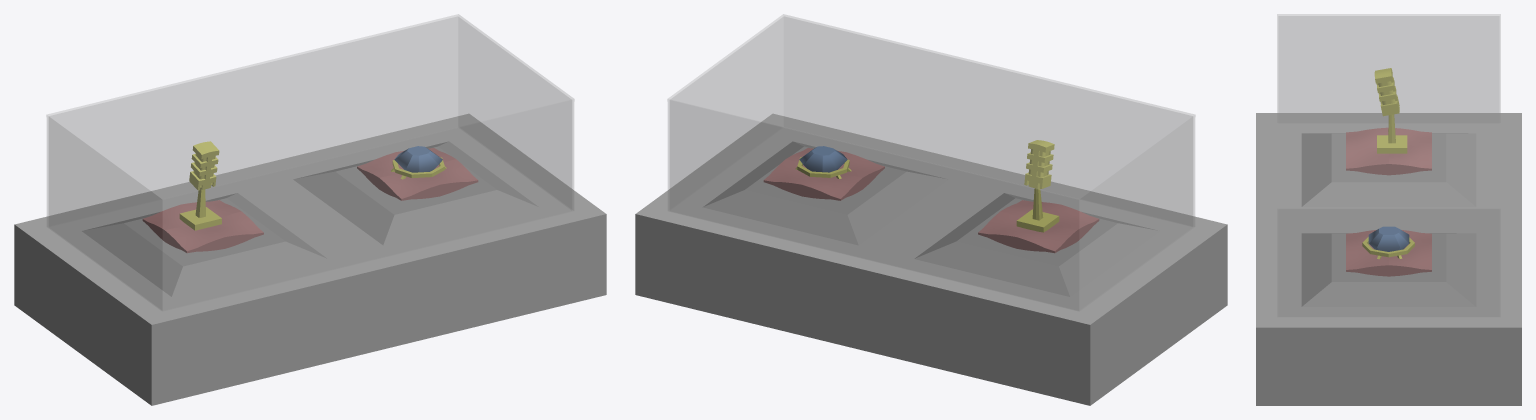
File: VITRINE_artefact_micro_et_diamant.fbx
The picture shows the model from 3 angles, left to right: view 1: azimuth 30°, elevation 25°; view 2: azimuth 150°, elevation 25°; view 3: azimuth 270°, elevation 25°; orthographic projection. The views are drawn at different scales.
Parts seen in each view (by area): view 1: VERRE, BLOC, PRESENTOIR, PRESENTOIR1, group3_pCube5, group3_pCube6, MICRO, pCube6; view 2: VERRE, BLOC, PRESENTOIR, PRESENTOIR1, group3_pCube5, group3_pCube6, MICRO, pCube6; view 3: VERRE, BLOC, PRESENTOIR, PRESENTOIR1, group3_pCube5, group3_pCube6, MICRO, pCube6, pCylinder1.
Boxes of the visible parts, bbox=[...] form: VERRE: bbox=[46, 14, 574, 310]; BLOC: bbox=[14, 113, 606, 405]; PRESENTOIR: bbox=[82, 193, 327, 296]; PRESENTOIR1: bbox=[293, 141, 539, 245]; group3_pCube5: bbox=[142, 200, 263, 253]; group3_pCube6: bbox=[357, 148, 478, 200]; MICRO: bbox=[179, 141, 221, 230]; pCube6: bbox=[394, 146, 442, 172]; VERRE: bbox=[667, 14, 1195, 310]; BLOC: bbox=[635, 113, 1227, 405]; PRESENTOIR: bbox=[914, 193, 1159, 296]; PRESENTOIR1: bbox=[702, 141, 948, 245]; group3_pCube5: bbox=[978, 200, 1099, 253]; group3_pCube6: bbox=[763, 148, 884, 200]; MICRO: bbox=[1016, 140, 1059, 232]; pCube6: bbox=[799, 146, 847, 172]; VERRE: bbox=[1277, 14, 1500, 316]; BLOC: bbox=[1256, 113, 1521, 405]; PRESENTOIR: bbox=[1301, 133, 1476, 207]; PRESENTOIR1: bbox=[1301, 233, 1476, 306]; group3_pCube5: bbox=[1346, 127, 1431, 175]; group3_pCube6: bbox=[1346, 230, 1431, 276]; MICRO: bbox=[1374, 68, 1407, 153]; pCube6: bbox=[1368, 226, 1409, 251]; pCylinder1: bbox=[1362, 237, 1414, 259].
Size of the model in its own units: 2.95 by 1.2 by 1.54.
